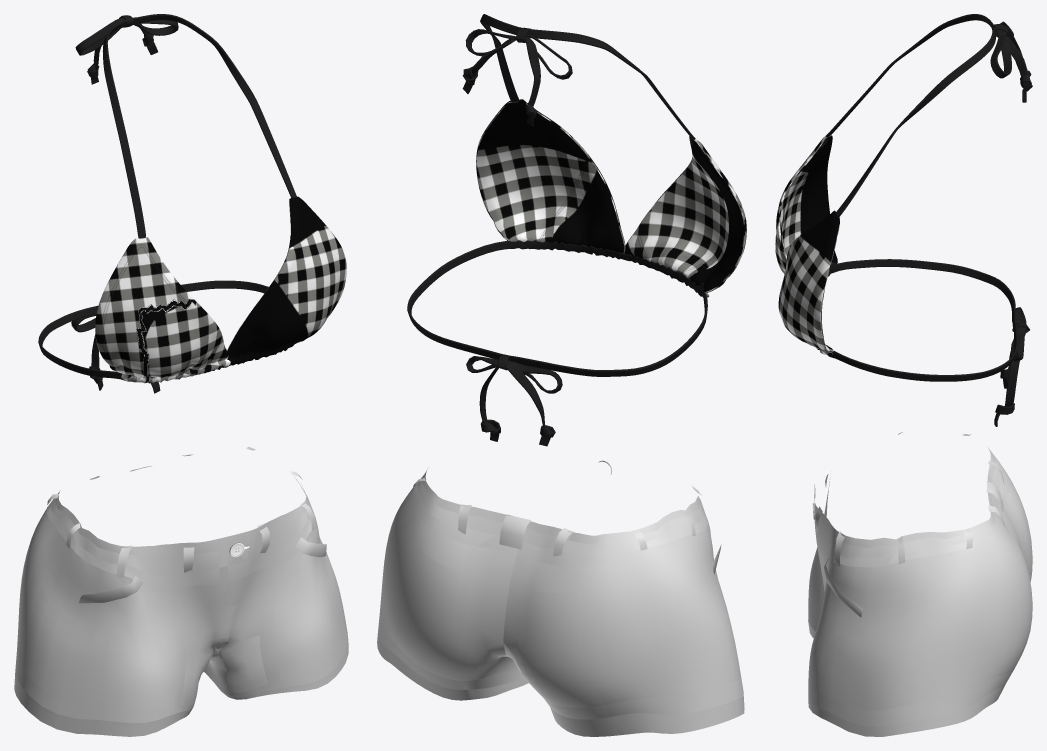
File: bra_booty_short.glb
3 renders of one model, left to right at view 1: azimuth 30°, elevation 25°; view 2: azimuth 150°, elevation 25°; view 3: azimuth 270°, elevation 25°, orthographic. The views are drawn at different scales.
Parts seen in each view (by area): view 1: all_two, all; view 2: all_two, all; view 3: all_two, all.
Part boxes in pixels (x1,y1,x2,y2): all_two: (14, 446, 348, 736); all: (38, 14, 346, 393); all_two: (377, 460, 744, 736); all: (407, 14, 746, 446); all_two: (808, 432, 1032, 736); all: (775, 14, 1032, 426).
Size of the model in its own units: 0.3212 by 0.6248 by 0.2257.
1 material, 1 textured.
